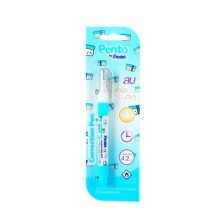book: (82, 22, 142, 204)
correction_fluid: (94, 66, 113, 185)
